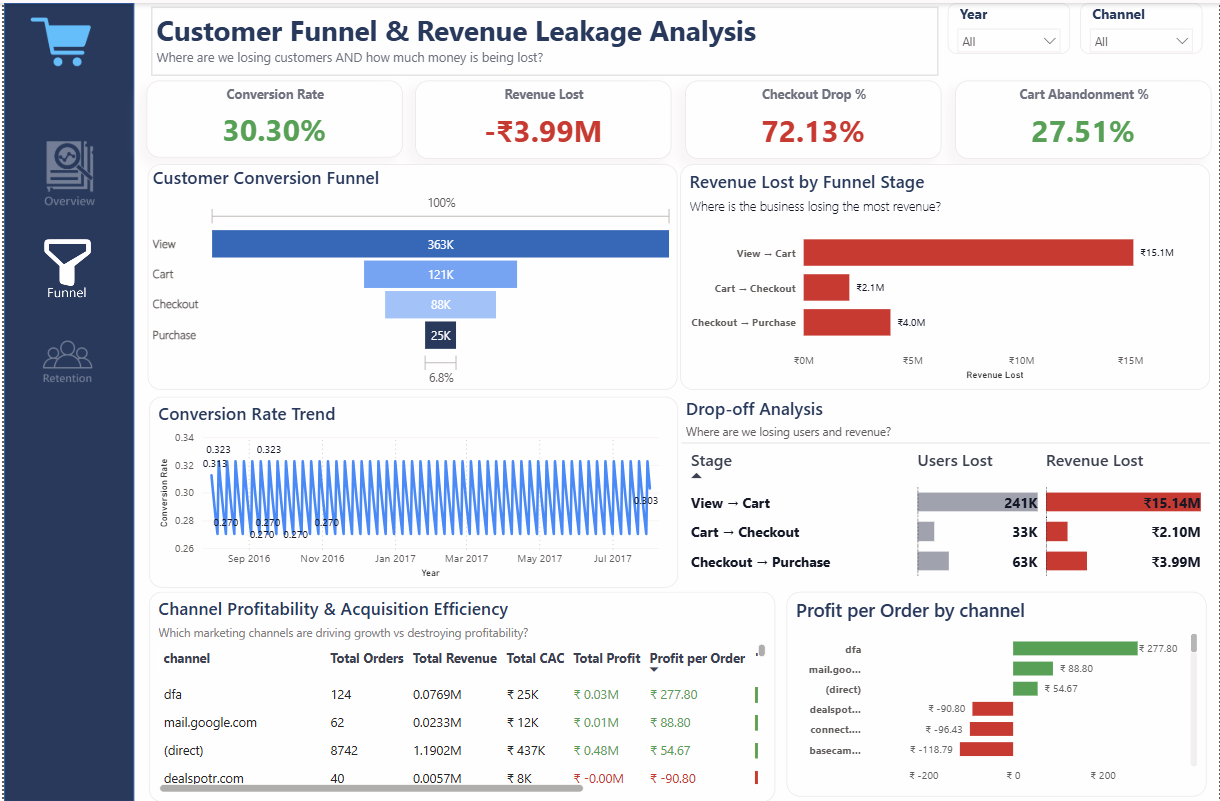

This screenshot's page, from the dashboard's own definition file:
{"tool":"powerbi","page":{"name":"Funnel Leakage","canvas":[1400,920],"ordinal":1},"visuals":[{"type":"shape","box":[0,0,150,920.3],"z":0},{"type":"tableEx","title":"Drop-off Analysis ","fields":{"Values":["Stage Master.Stage","Drop Off Measures.Users Drop","Drop Off Measures.Revenue_Lost"]},"box":[781.4,454,609.7,220.8],"z":0,"group":"g1"},{"type":"cardVisual","title":"Conversion Rate","fields":{"Data":["Dax Measure2.Conversion Rate"]},"box":[163.6,90,295,88.7],"z":1000},{"type":"shape","box":[781.1,501.3,609.3,11.5],"z":1000,"group":"g1"},{"type":"cardVisual","title":"Revenue Lost ","fields":{"Data":["Dax Measure2.Revenue Lost Format"]},"box":[474.4,90,295,90.5],"z":2000},{"type":"cardVisual","title":"Checkout Drop %","fields":{"Data":["Dax Measure2.Checkout Drop %"]},"box":[785.2,90,295,90.2],"z":3000},{"type":"cardVisual","title":"Cart Abandonment %","fields":{"Data":["Dax Measure2.Cart Abandonment %"]},"box":[1096,90,295,90.2],"z":4000},{"type":"funnel","title":"Customer Conversion Funnel","fields":{"Category":["funnel_data.Stage"],"Y":["Sum(funnel_data.Users)"]},"box":[166,186,610,260],"z":5000},{"type":"slicer","title":"Year","fields":{"Values":["final_orders.date.Variation.Date Hierarchy.Year","final_orders.date.Variation.Date Hierarchy.Quarter","final_orders.date.Variation.Date Hierarchy.Month","final_orders.date.Variation.Date Hierarchy.Day"]},"box":[1086.8,0,140.6,58.1],"z":6000},{"type":"slicer","fields":{"Values":["final_orders.channel"]},"box":[1239.6,0,140.6,58.1],"z":7000},{"type":"textbox","box":[169.7,4.6,906.4,79],"z":8000},{"type":"clusteredBarChart","title":"Revenue Lost by Funnel Stage","fields":{"Category":["Stage Master.Stage"],"Y":["Drop Off Measures.Revenue Lost"]},"box":[779,186,610,260],"z":9000},{"type":"lineChart","title":"Conversion Rate Trend","fields":{"Category":["final_orders.date.Variation.Date Hierarchy.Year","final_orders.date.Variation.Date Hierarchy.Quarter","final_orders.date.Variation.Date Hierarchy.Month","final_orders.date.Variation.Date Hierarchy.Day"],"Y":["Dax Measure2.Conversion Rate"]},"box":[166.6,454,609.9,220],"z":10000},{"type":"group","id":"g1","title":"Group 1","box":[781.1,454,609.9,220],"z":11000},{"type":"tableEx","title":"Channel Profitability & Acquisition Efficiency","fields":{"Values":["final_orders.channel","Dax Measures1.Total Orders","Dax Measures1.Total Revenue","Dax Measure2.Total CAC","Dax Measures1.Total Profit","Dax Measure2.Profit per Order","Dax Measure2.Bar Text"]},"box":[167.2,678.1,721.9,242.2],"z":12000},{"type":"clusteredBarChart","fields":{"Category":["final_orders.channel"],"Y":["Dax Measure2.Profit per Order"]},"box":[901.6,678.1,484.4,235.9],"z":13000},{"type":"actionButton","box":[42.5,271.2,60,72.5],"z":14000},{"type":"actionButton","box":[45,156.2,60,81.2],"z":15000},{"type":"actionButton","box":[42.5,377.5,60,72.5],"z":16000},{"type":"actionButton","box":[30,12,71.8,64.1],"z":17000}]}

Visuals, with their boxes on the page's 1400x920 design canvas (x1, y1, x2, y2). These are canvas units, not pixel positions in the 1220x801 screenshot, which may show the page scaled, cropped or inside an application window:
shape: (0, 0, 150, 920)
"Drop-off Analysis " tableEx: (781, 454, 1391, 675)
"Conversion Rate" cardVisual: (164, 90, 459, 179)
shape: (781, 501, 1390, 513)
"Revenue Lost " cardVisual: (474, 90, 769, 180)
"Checkout Drop %" cardVisual: (785, 90, 1080, 180)
"Cart Abandonment %" cardVisual: (1096, 90, 1391, 180)
"Customer Conversion Funnel" funnel: (166, 186, 776, 446)
"Year" slicer: (1087, 0, 1227, 58)
slicer - final_orders.channel: (1240, 0, 1380, 58)
textbox: (170, 5, 1076, 84)
"Revenue Lost by Funnel Stage" clusteredBarChart: (779, 186, 1389, 446)
"Conversion Rate Trend" lineChart: (167, 454, 776, 674)
"Group 1" group: (781, 454, 1391, 674)
"Channel Profitability & Acquisition Efficiency" tableEx: (167, 678, 889, 920)
clusteredBarChart - final_orders.channel x Dax Measure2.Profit per Order: (902, 678, 1386, 914)
actionButton: (42, 271, 102, 344)
actionButton: (45, 156, 105, 237)
actionButton: (42, 378, 102, 450)
actionButton: (30, 12, 102, 76)
